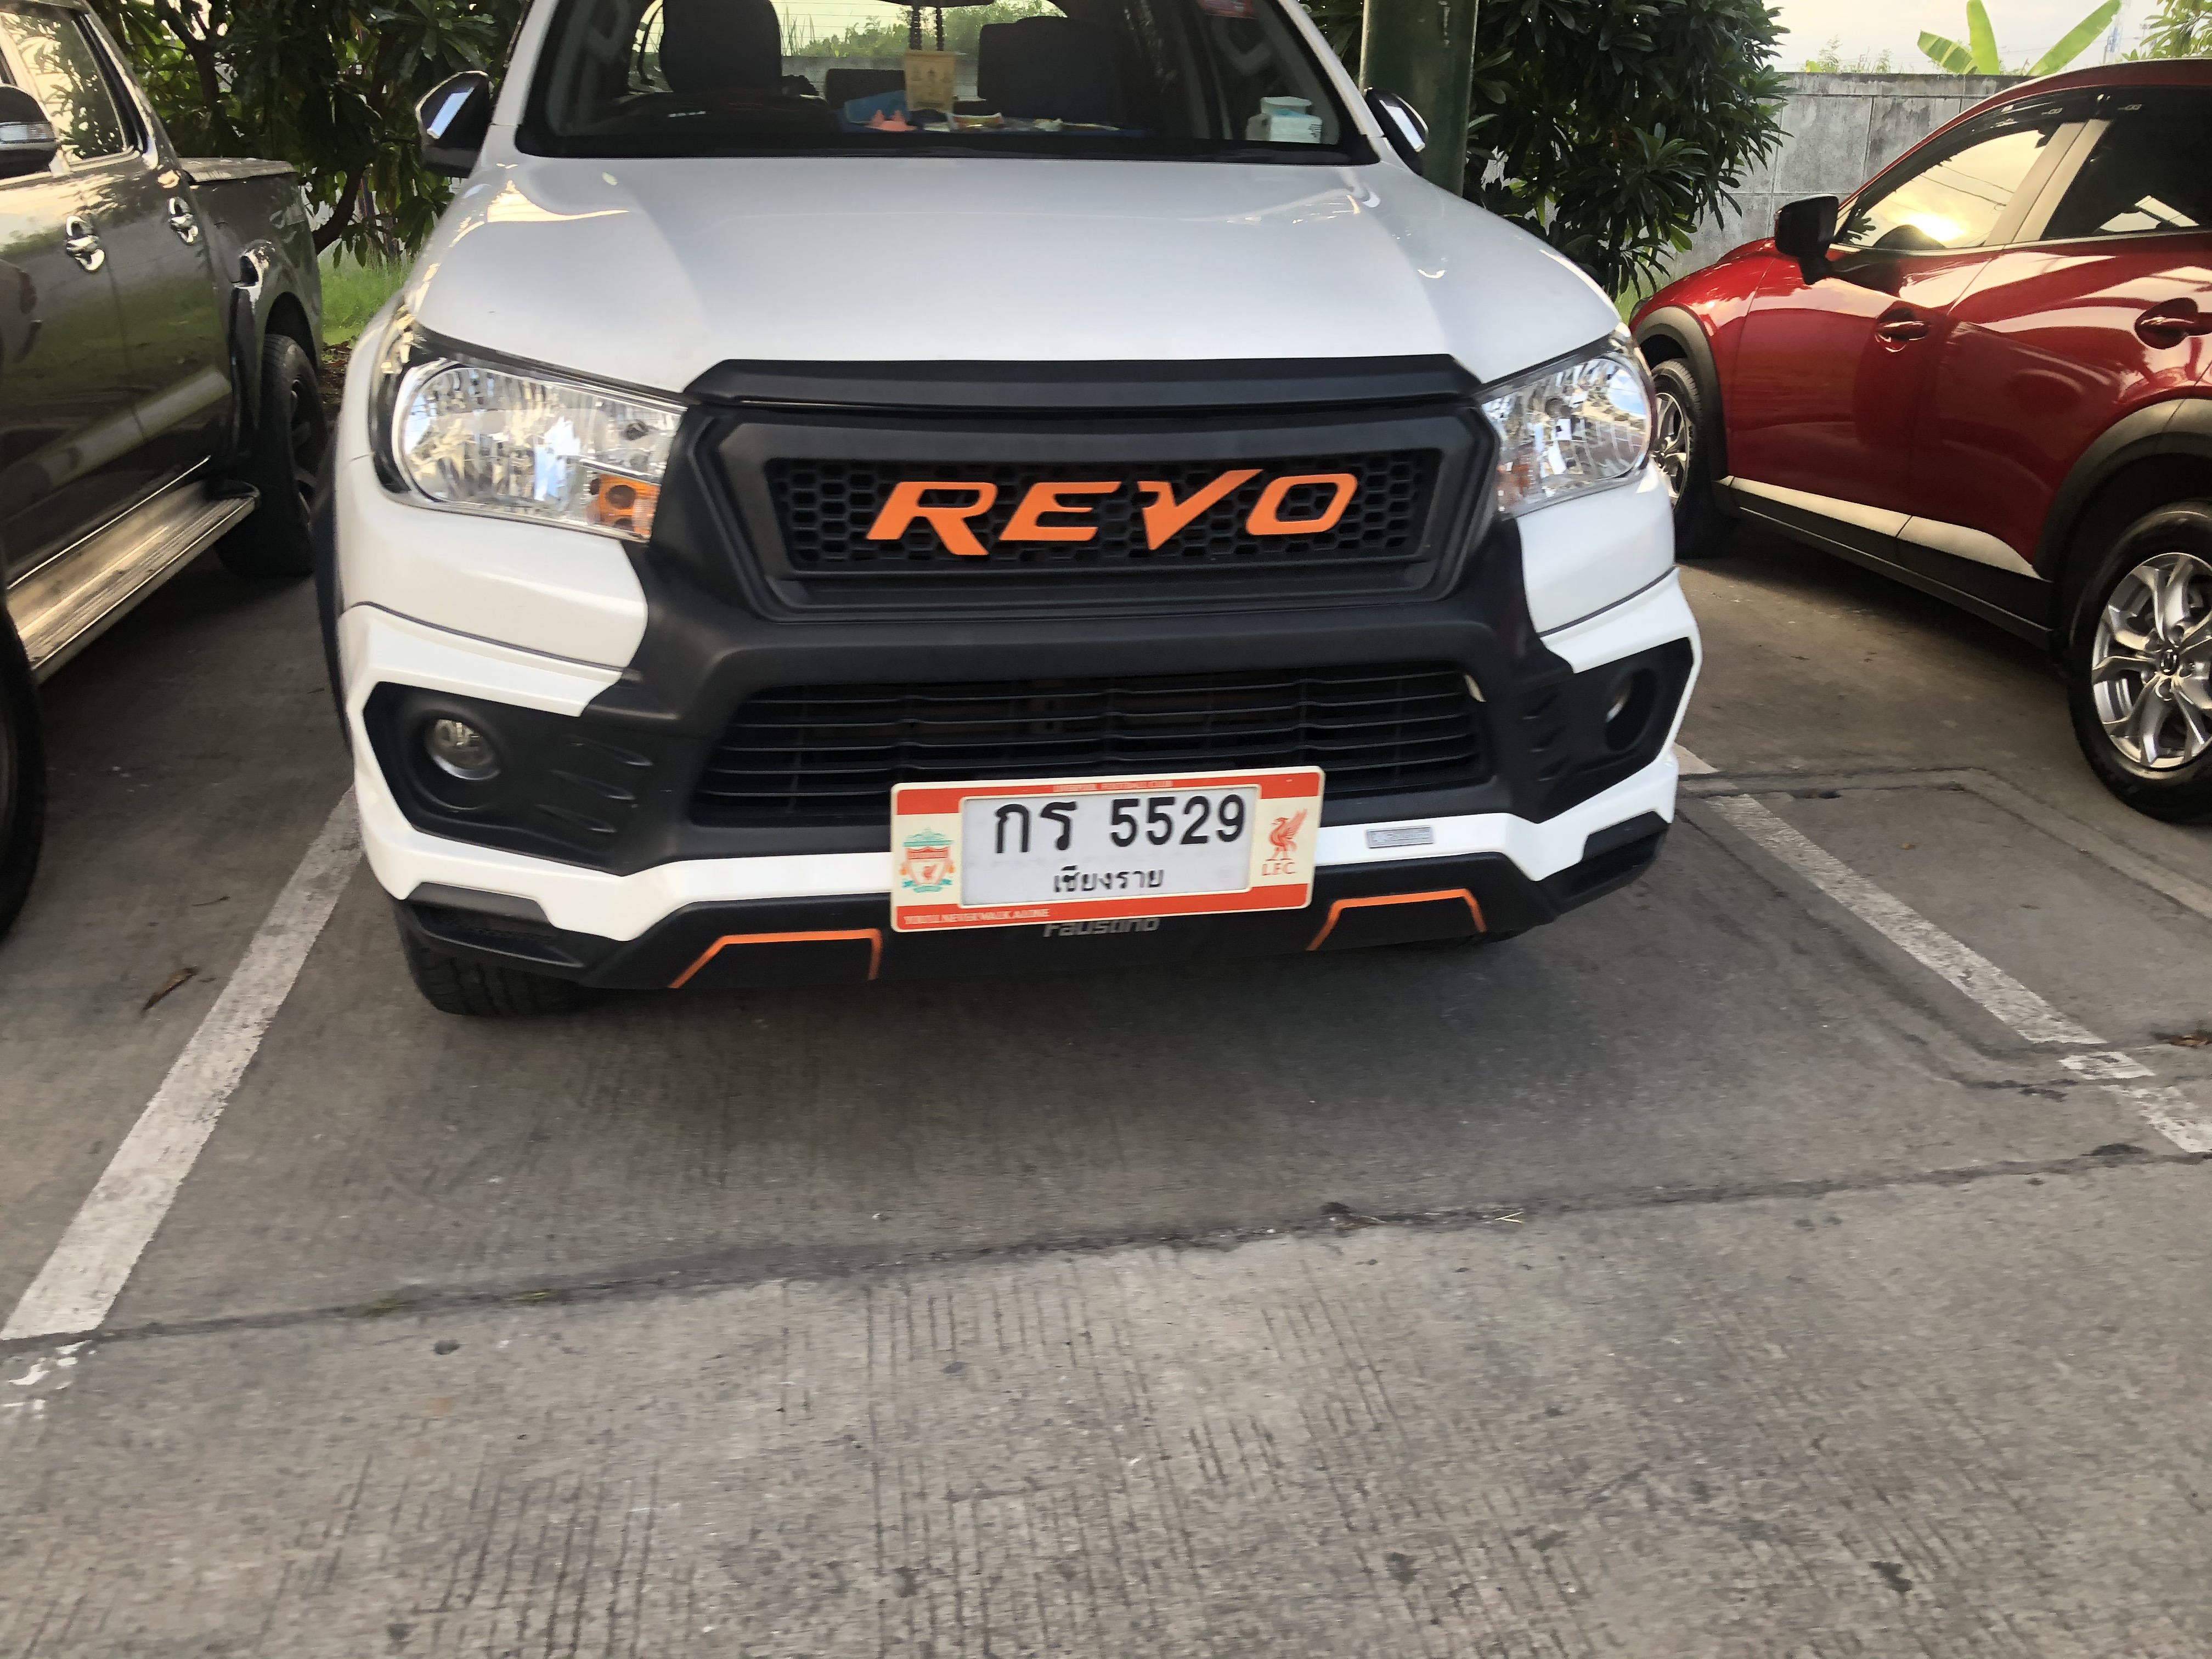in: (963, 786, 1252, 904)
out: (892, 772, 1327, 925)
